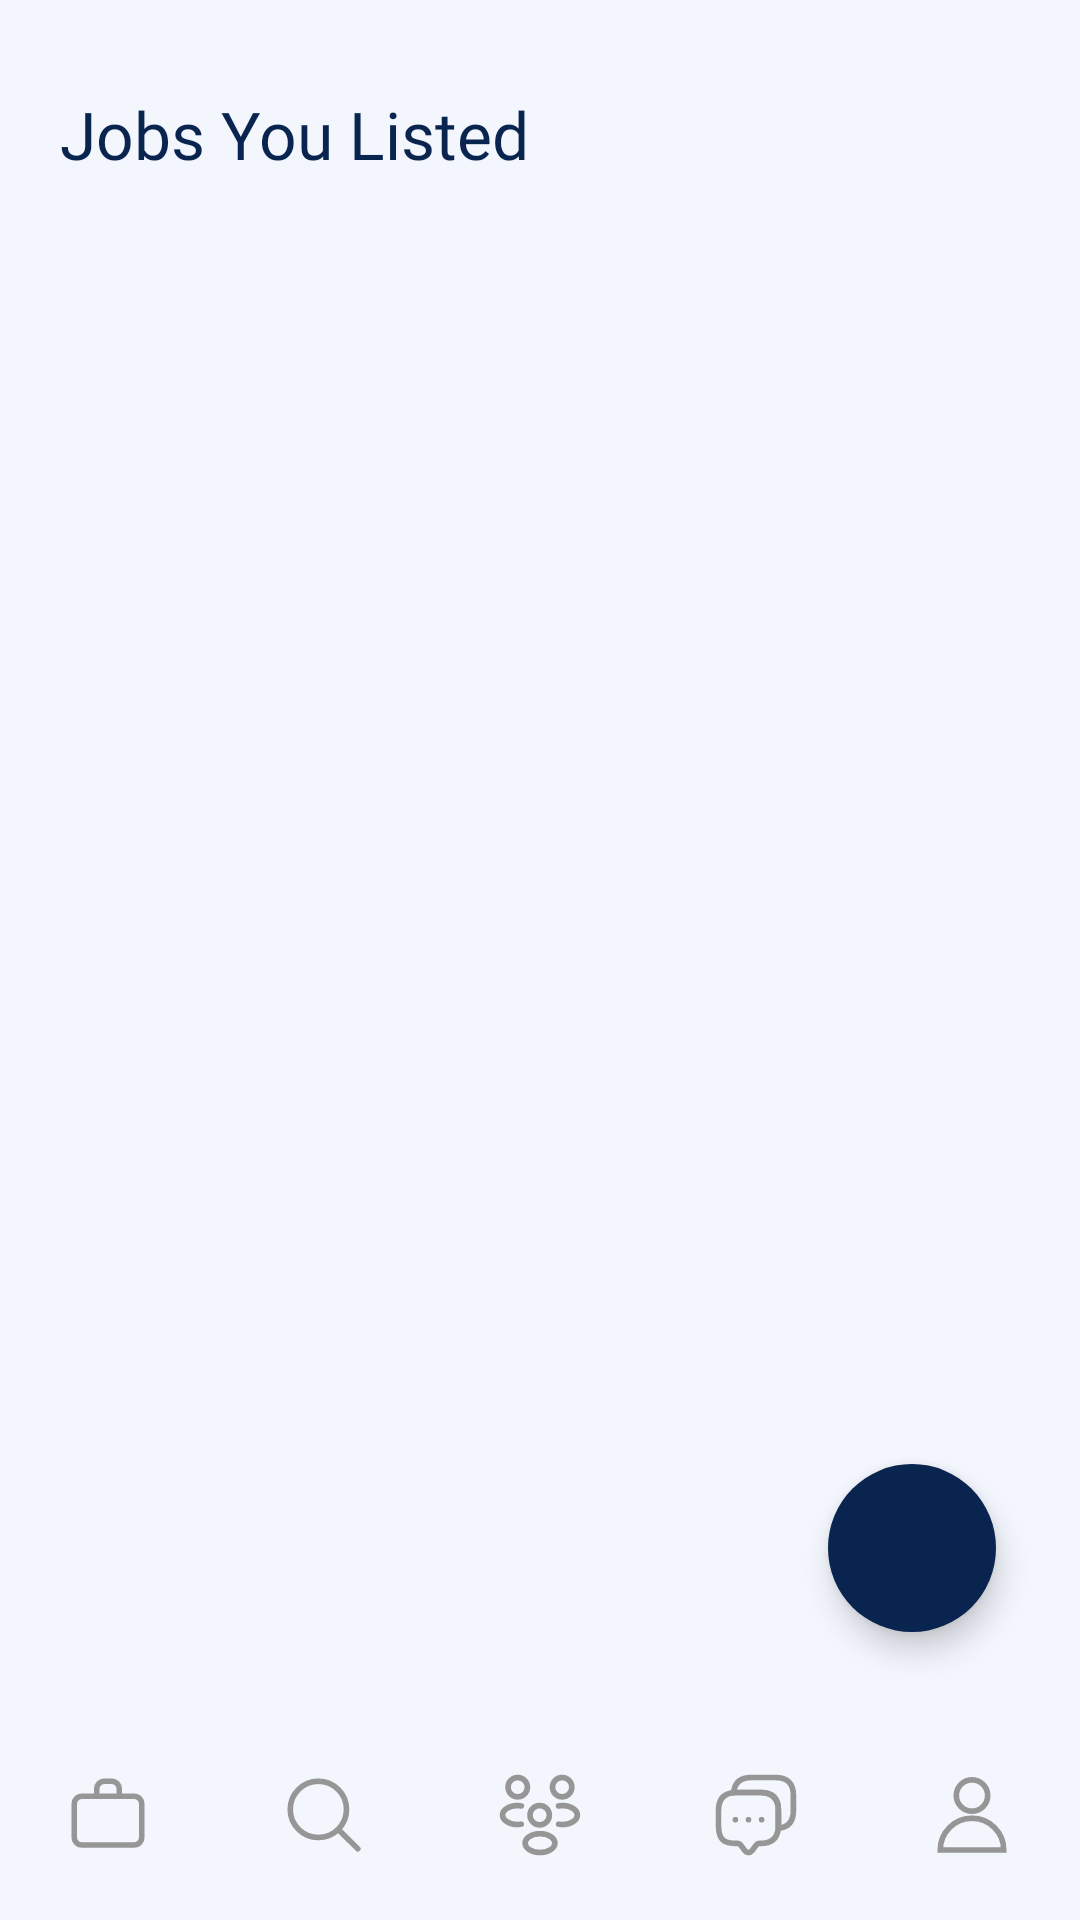

Where to tap for icons on this 1080x1920 app screen, as (x,y):
messages: (756,1815)
people: (539,1815)
person male: (972,1815)
search: (324,1815)
work: (108,1813)
